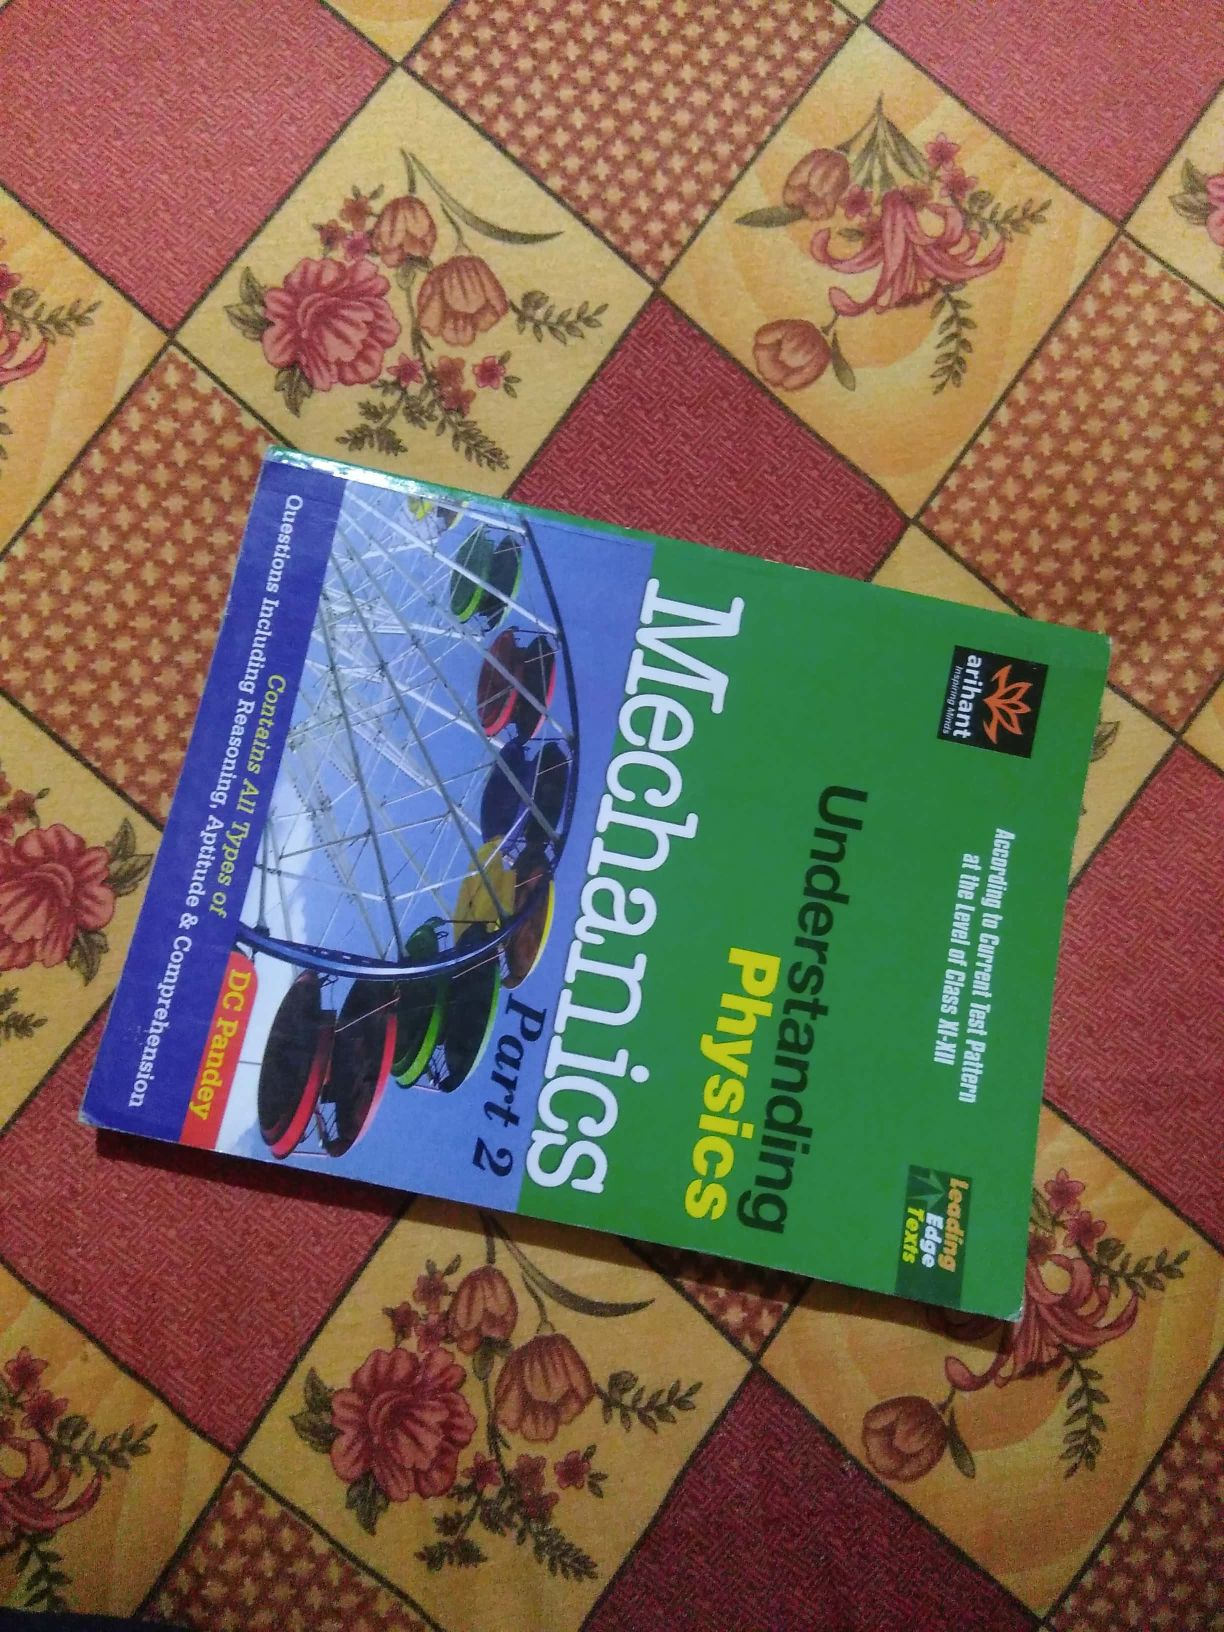mechanics: (84, 412, 1182, 1349)
